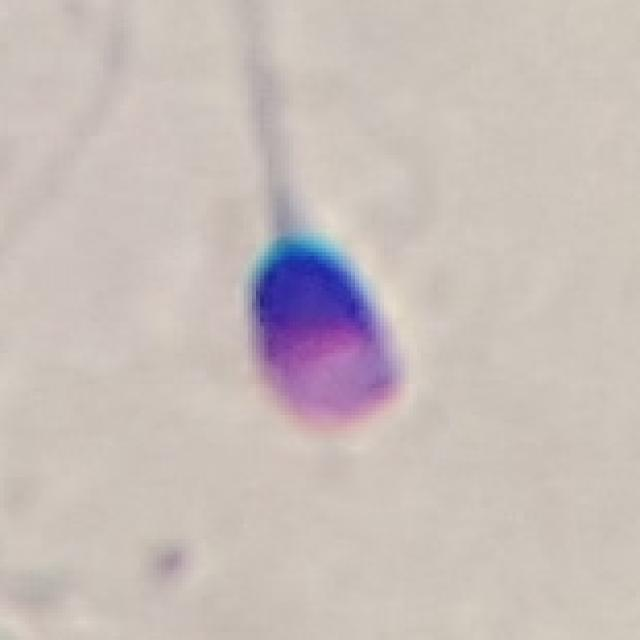normal sperm: (239, 143, 404, 434)
